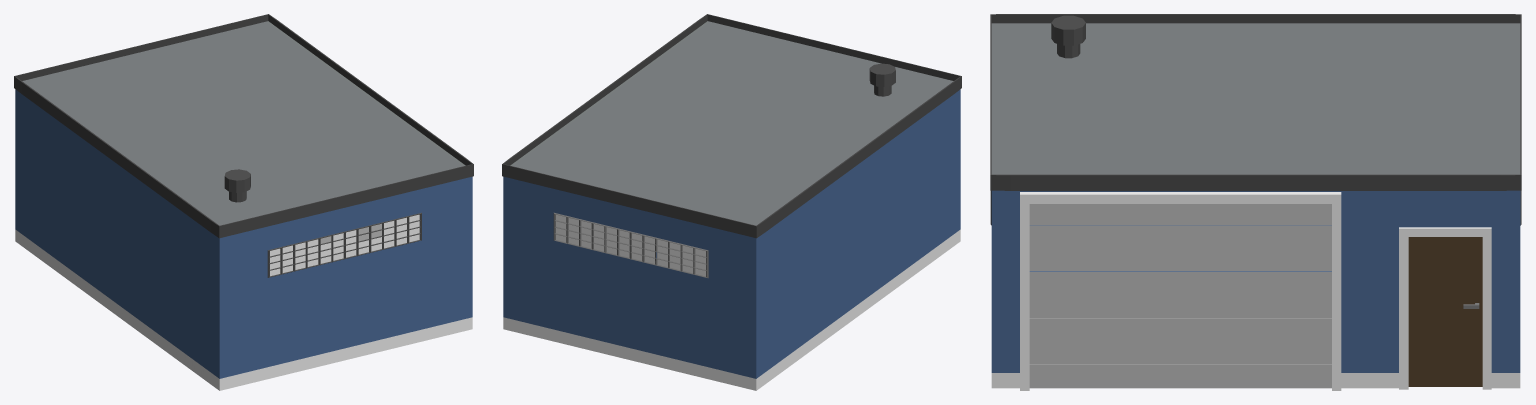
File: garage.fbx
The picture shows the model from 3 angles, left to right: view 1: azimuth 30°, elevation 25°; view 2: azimuth 150°, elevation 25°; view 3: azimuth 270°, elevation 25°; orthographic projection. The views are drawn at different scales.
Parts seen in each view (by area): view 1: Building_Garage; view 2: Building_Garage; view 3: Building_Garage.
Part boxes in pixels (bbox=[...]): Building_Garage: bbox=[14, 14, 473, 390]; Building_Garage: bbox=[502, 14, 961, 390]; Building_Garage: bbox=[990, 14, 1521, 390].
Bounding box in the file's own units: 9.29 × 6.28 × 12.81.
Materials: 1 (1 with a texture image).
